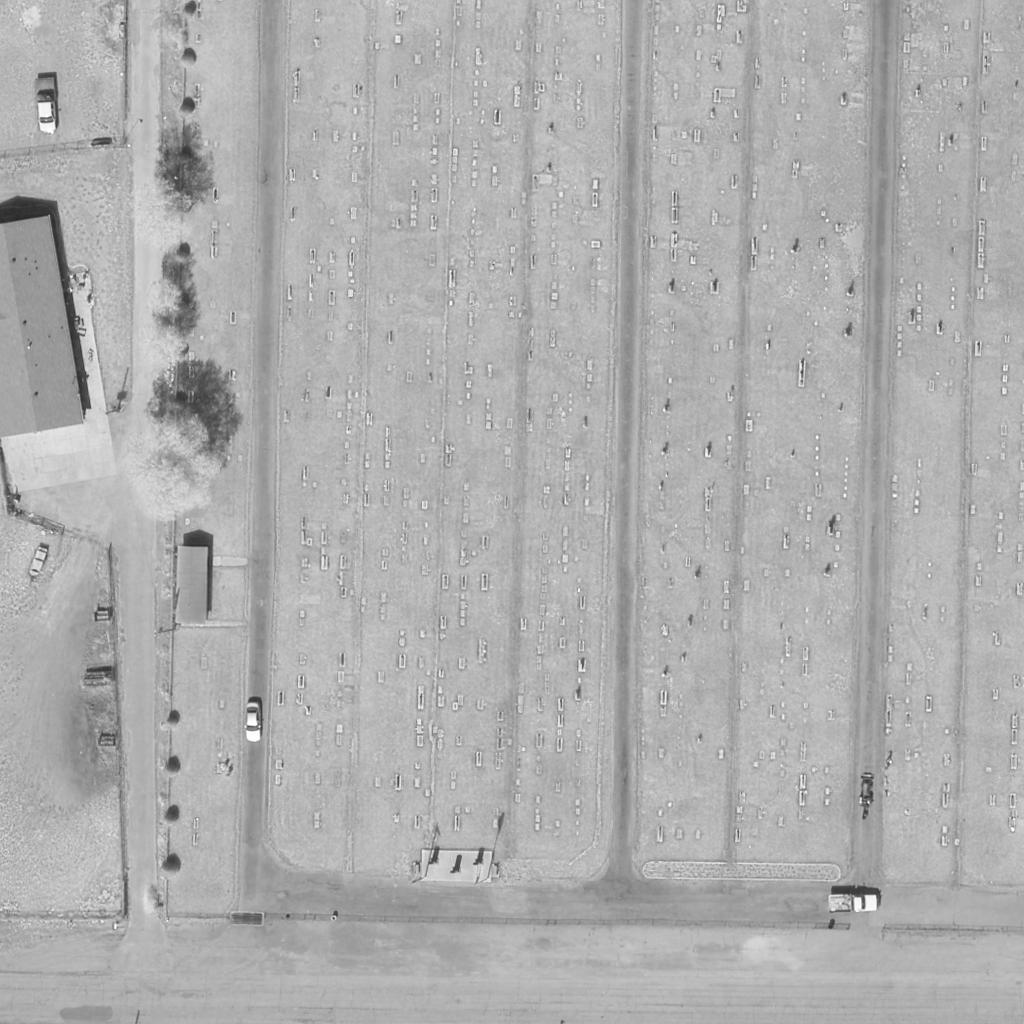vehicle: (36, 78, 58, 132), (827, 894, 879, 914), (245, 702, 263, 744), (858, 774, 876, 808)
